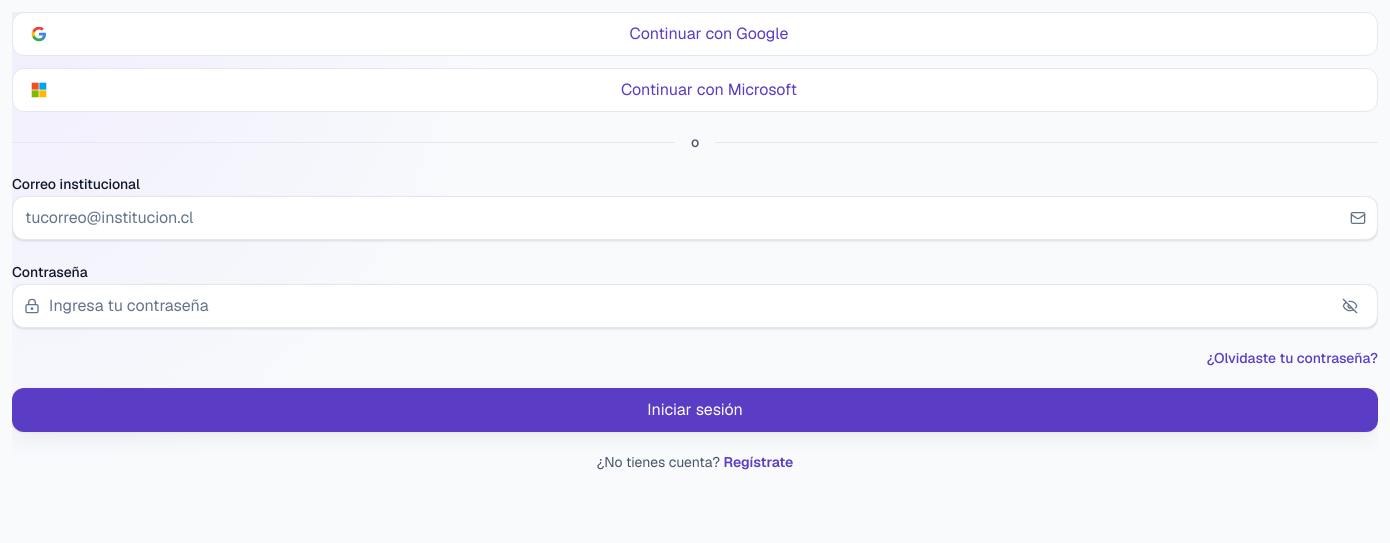
Test case: LoginForm › renders login fields and shows validation when submission is invalid
expect the field labelled "Correo institucional" is shown: met, box [12, 196, 1378, 240]
expect the password field with placeholder "Ingresa tu contraseña" is shown: met, box [12, 284, 1378, 328]
Click the button "Iniciar sesión": (695,410) [12, 388, 1378, 432]
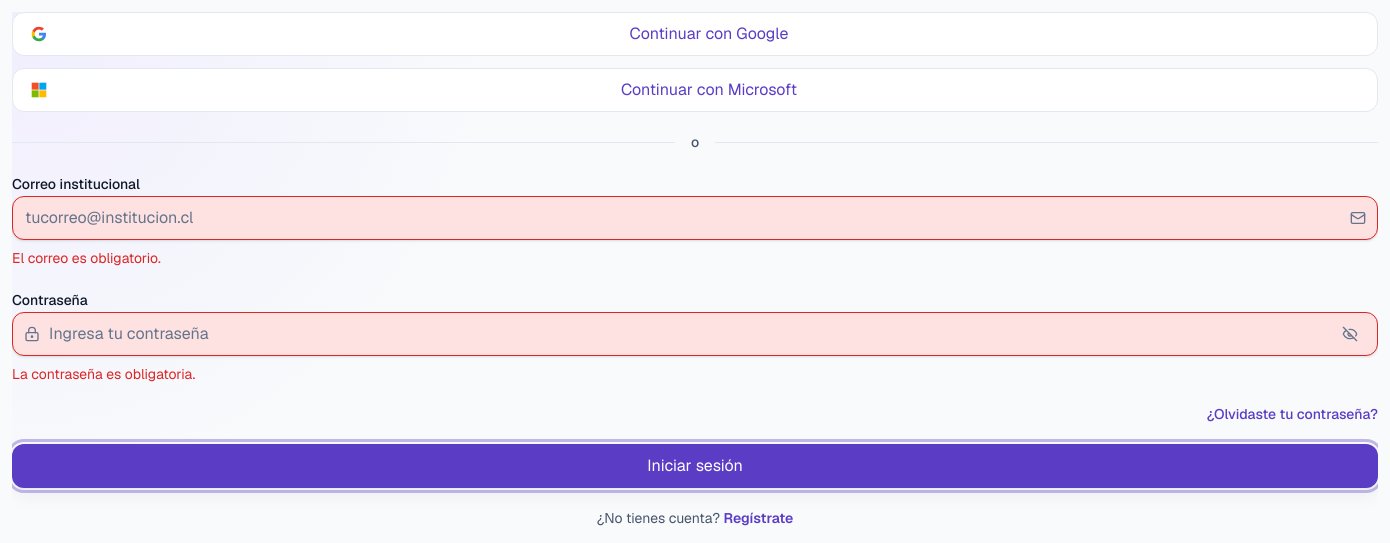
expect the text "El correo es obligatorio." is shown: met, box [12, 249, 161, 267]
expect the text "La contraseña es obligatoria." is shown: met, box [12, 365, 195, 383]
